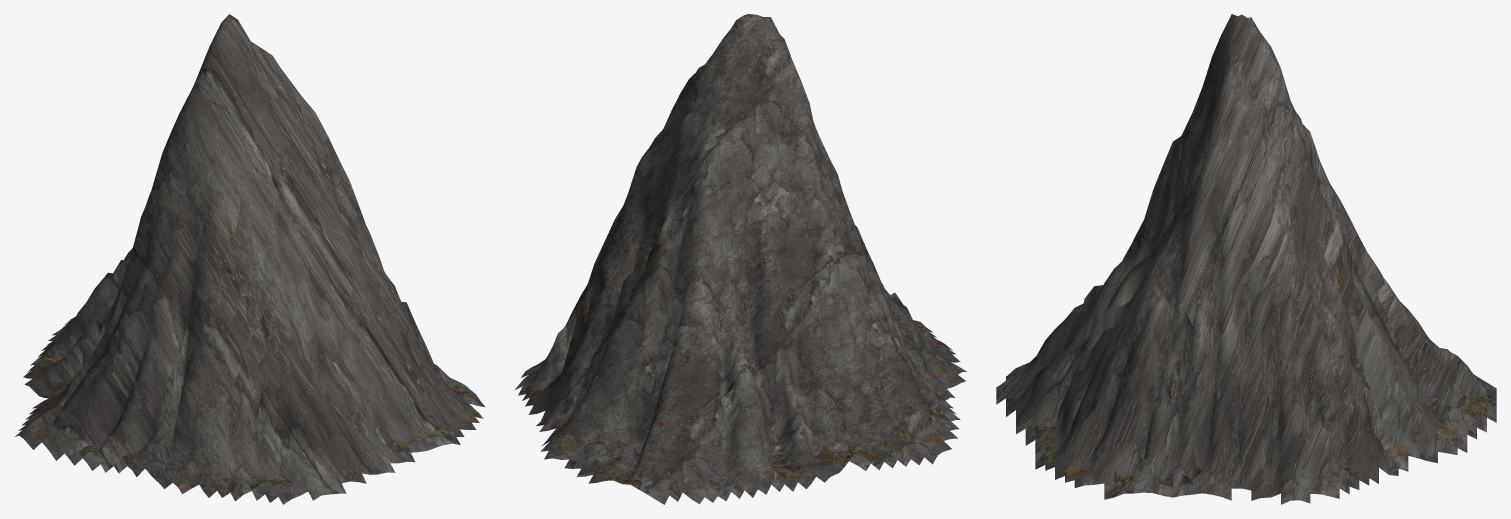
File: border_peak_a_v5_autumn.glb
3 views of the same model, side by side, from view 1: azimuth 30°, elevation 25°; view 2: azimuth 150°, elevation 25°; view 3: azimuth 270°, elevation 25° (orthographic).
Visible parts, largest first — view 1: border_peak_a; view 2: border_peak_a; view 3: border_peak_a.
Part boxes in pixels (x1=…): border_peak_a: x1=15, y1=14, x2=485, y2=504; border_peak_a: x1=515, y1=14, x2=966, y2=504; border_peak_a: x1=996, y1=14, x2=1496, y2=504.
Bounding box in the file's own units: 0.94 × 0.8827 × 1.02.
Materials: 2 (2 with a texture image).
